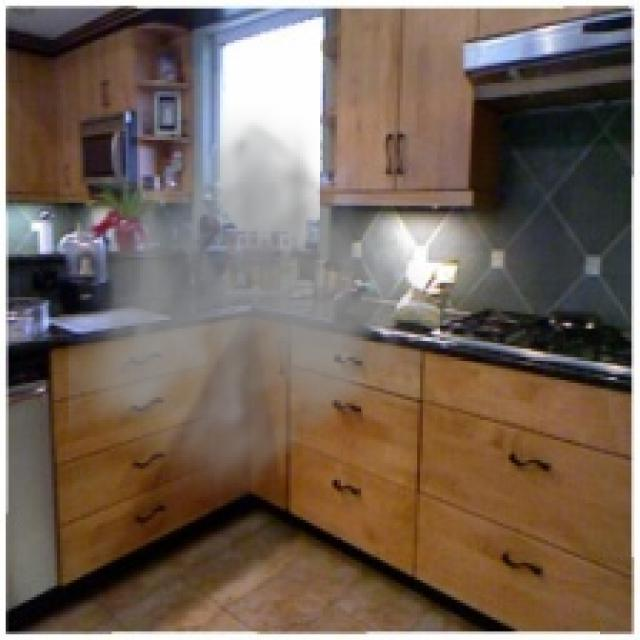smoke: (69, 103, 448, 511)
